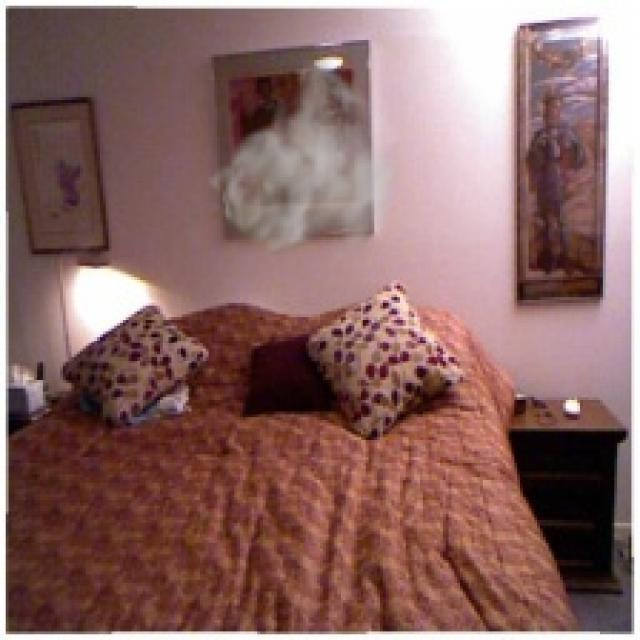Smoke: (206, 42, 406, 278)
